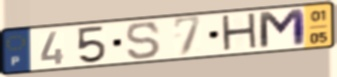4: (39, 30, 66, 66)
5: (76, 24, 108, 65)
7: (171, 14, 203, 59)
H: (219, 11, 261, 54)
M: (256, 7, 309, 52)
S: (124, 20, 163, 61)
